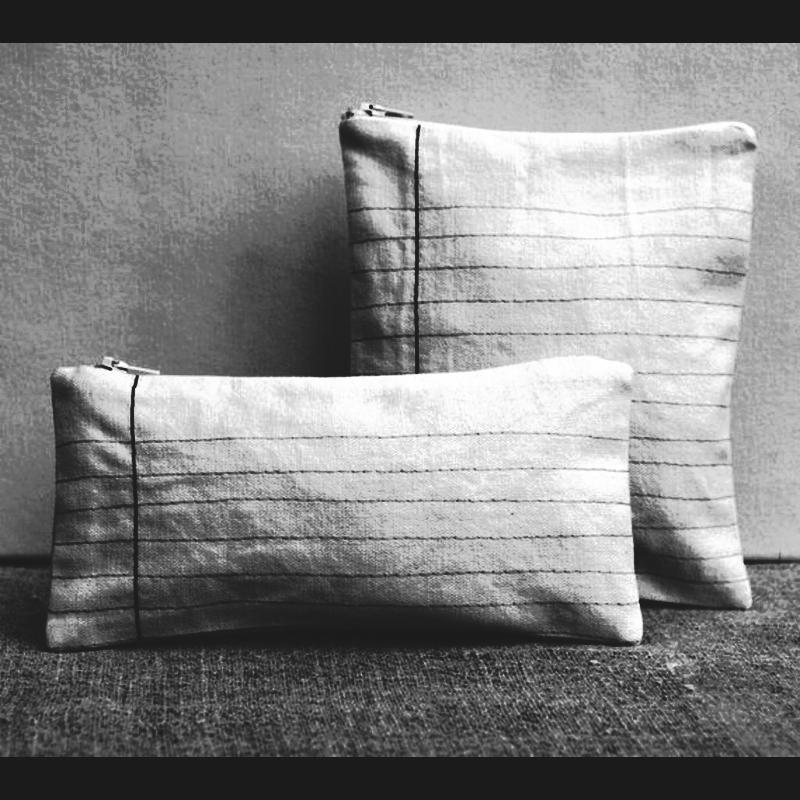pillow: (336, 124, 756, 612)
